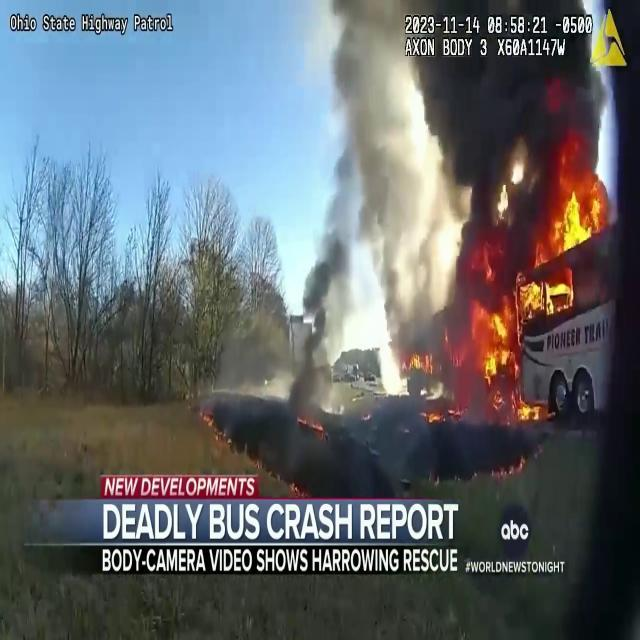Fire: (478, 272, 544, 386), (556, 172, 604, 252)
Smoke: (292, 6, 450, 402), (438, 0, 610, 254)
